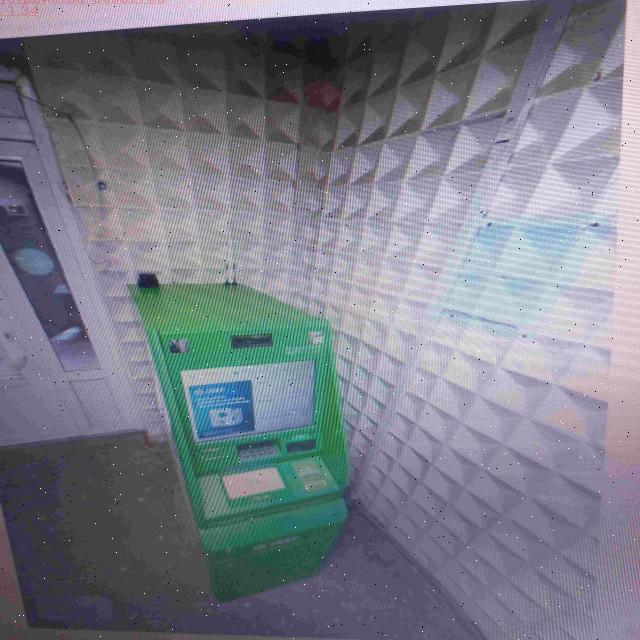bank: (128, 282, 354, 600)
